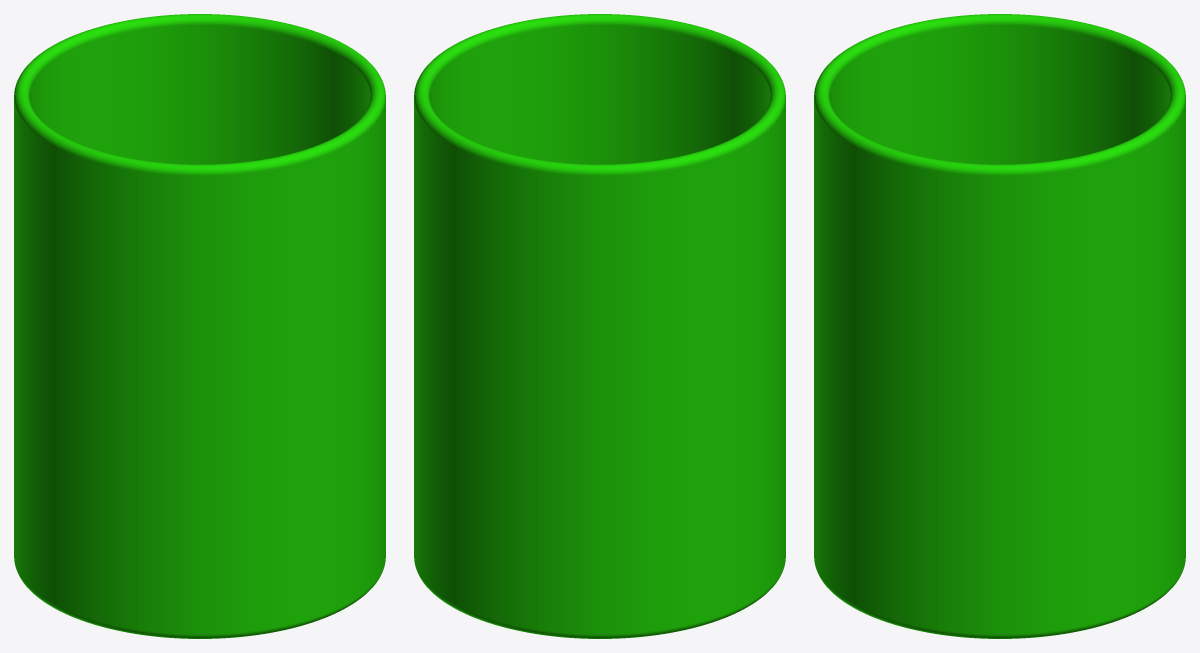
3 renders of one model, left to right at view 1: azimuth 30°, elevation 25°; view 2: azimuth 150°, elevation 25°; view 3: azimuth 270°, elevation 25°, orthographic.
Visible parts, largest first — view 1: main; view 2: main; view 3: main.
Boxes of the visible parts, <box> form: main: <box>14,14,385,638</box>; main: <box>414,14,785,638</box>; main: <box>814,14,1185,638</box>.
Size of the model in its own units: 362 by 508 by 362.
